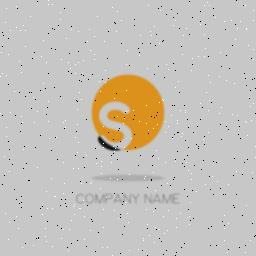s: (94, 98, 138, 154)
